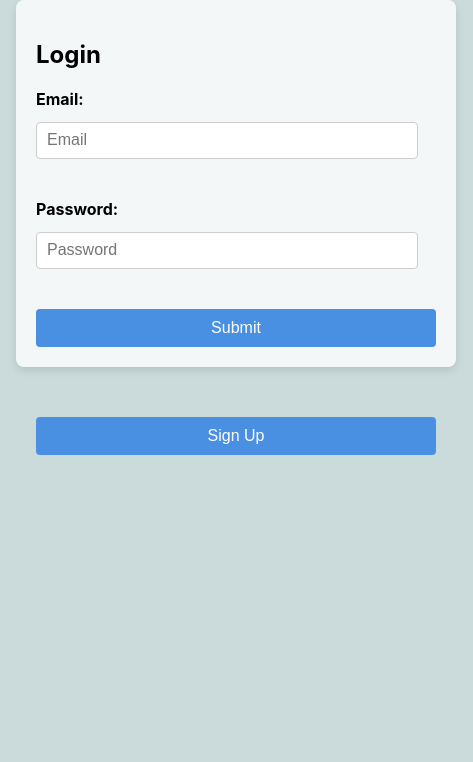
Test: Pagina Inicial › Should change to Register screen when the Register button is clicked
Step 1. Click the button with aria-label "Crie sua conta" → (236, 436), box x1=36 y1=417 x2=436 y2=455
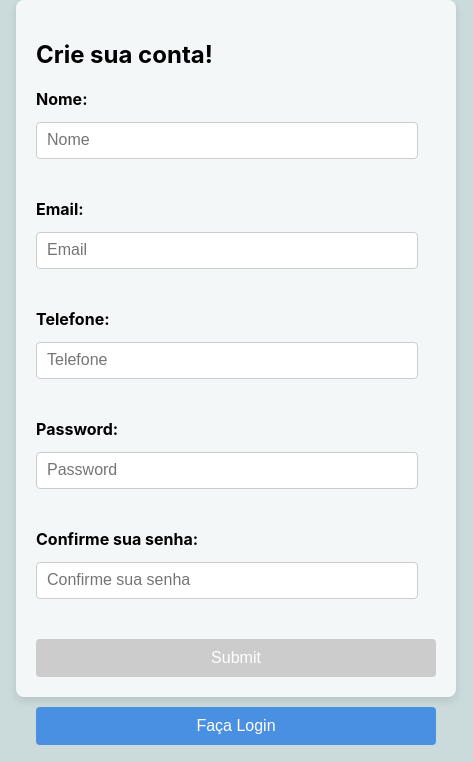
Result: the heading "Crie sua conta!" is shown at x1=36 y1=40 x2=213 y2=69
